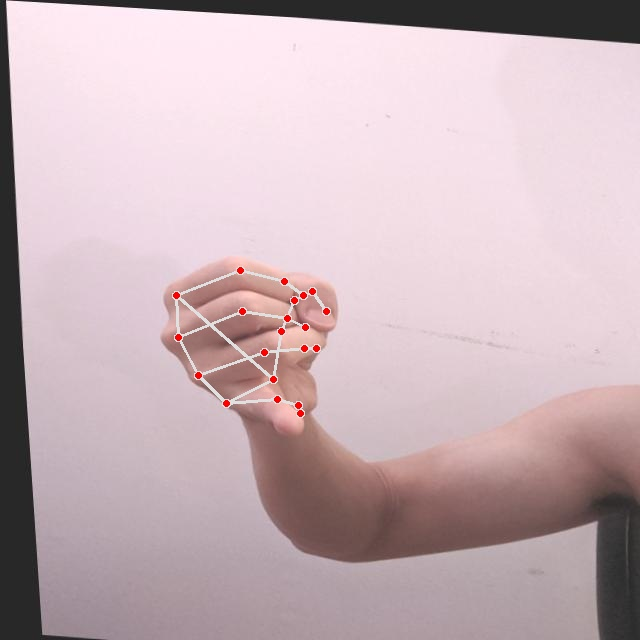J: (138, 243, 352, 440)
